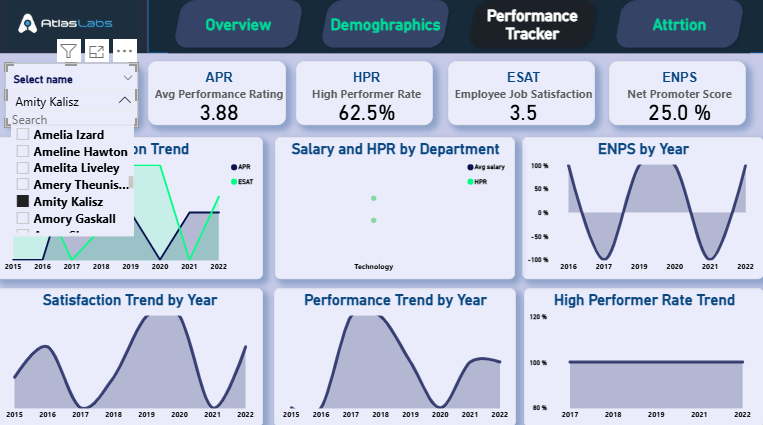

The dashboard page shown, as its layout file describes it:
{"tool":"powerbi","page":{"name":"Performance Tracker","canvas":[1280,720],"ordinal":2},"visuals":[{"type":"image","box":[0,0,253.3,96.7],"z":1000},{"type":"actionButton","box":[568.3,10,175,76.7],"z":2000},{"type":"actionButton","box":[1048.2,38.6,176.4,75.6],"z":3000},{"type":"actionButton","box":[286.7,10,176.7,76.7],"z":4000},{"type":"slicer","fields":{"Values":["DimEmployee.Full name"]},"box":[15,113.3,221.7,106.7],"z":5000},{"type":"card","title":"APR","fields":{"Values":["___MEASURES.APR"]},"box":[253.3,110,230,106.7],"z":6000},{"type":"card","title":"ESAT","fields":{"Values":["___MEASURES.ESAT"]},"box":[753.3,110,245,106.7],"z":7000},{"type":"card","title":"HPR","fields":{"Values":["___MEASURES.HPR"]},"box":[500,110,228.3,106.7],"z":8000},{"type":"card","title":"ENPS","fields":{"Values":["___MEASURES.ENPS"]},"box":[1021.7,110,228.3,106.7],"z":9000},{"type":"donutChart","title":"Low vs High Performance","fields":{"Y":["___MEASURES.Total employee"],"Category":["FactPerformanceRating.Rating category"]},"box":[0,526.7,358.3,193.3],"z":10000},{"type":"lineChart","title":"Satisfaction Trend by Year","fields":{"Category":["DimDate.Date.Variation.Date Hierarchy.Year"],"Y":["___MEASURES.ESAT"]},"box":[0,488.3,445,231.7],"z":11000},{"type":"lineChart","title":"Performance Trend by Year","fields":{"Y":["___MEASURES.APR"],"Category":["DimDate.Date.Variation.Date Hierarchy.Year"]},"box":[463.3,488.3,403.3,231.7],"z":12000},{"type":"lineChart","title":"Correlation Trend","fields":{"Category":["DimDate.Date.Variation.Date Hierarchy.Year"],"Y":["___MEASURES.APR"],"Y2":["___MEASURES.ESAT"]},"box":[0,236.7,445,236.7],"z":13000},{"type":"lineChart","title":"High Performer Rate Trend","fields":{"Category":["DimDate.Date.Variation.Date Hierarchy.Year"],"Y":["___MEASURES.HPR"]},"box":[880,488.3,400,231.7],"z":14000},{"type":"lineChart","fields":{"Y":["___MEASURES.ENPS"],"Category":["DimDate.Date.Variation.Date Hierarchy.Year"]},"box":[876.7,236.7,403.3,236.7],"z":15000},{"type":"shape","box":[253.3,0,1026.7,96.7],"z":15500},{"type":"lineChart","title":" Salary and HPR by Department","fields":{"Category":["DimEmployee.Department"],"Y2":["___MEASURES.HPR"],"Y":["___MEASURES.Avg salary"]},"box":[465,236.7,400,236.7],"z":16000},{"type":"pageNavigator","box":[286.7,0,970,96.7],"z":16500}]}

Visuals, with their boxes in screenshot pixels (x1, y1, x2, y2), scaled from the page's 1280x720 canvas onto the 763x425 screenshot:
image: 0, 0, 151, 57
actionButton: 339, 6, 443, 51
actionButton: 625, 23, 730, 67
actionButton: 171, 6, 276, 51
slicer - DimEmployee.Full name: 9, 67, 141, 130
"APR" card: 151, 65, 288, 128
"ESAT" card: 449, 65, 595, 128
"HPR" card: 298, 65, 434, 128
"ENPS" card: 609, 65, 745, 128
"Low vs High Performance" donutChart: 0, 311, 214, 424
"Satisfaction Trend by Year" lineChart: 0, 288, 265, 424
"Performance Trend by Year" lineChart: 276, 288, 517, 424
"Correlation Trend" lineChart: 0, 140, 265, 279
"High Performer Rate Trend" lineChart: 525, 288, 762, 424
lineChart - ___MEASURES.ENPS x DimDate.Date.Variation.Date Hierarchy.Year: 523, 140, 762, 279
shape: 151, 0, 762, 57
" Salary and HPR by Department" lineChart: 277, 140, 516, 279
pageNavigator: 171, 0, 749, 57
